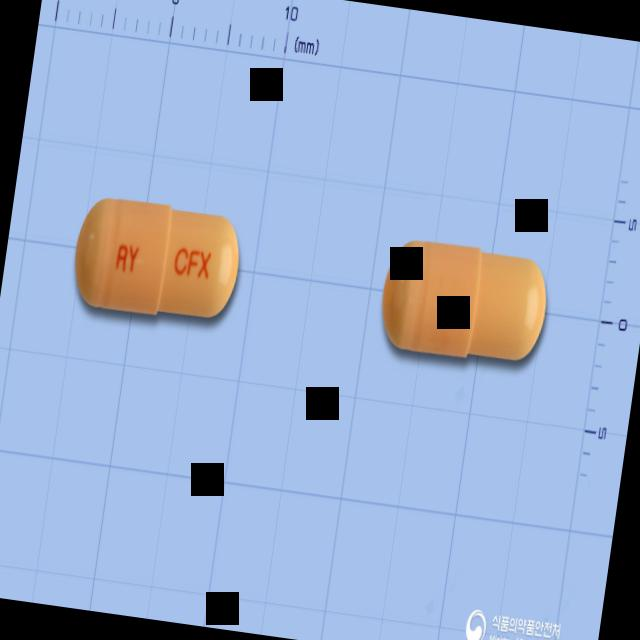Cefixime Cap- Reyon: (66, 183, 252, 335)
